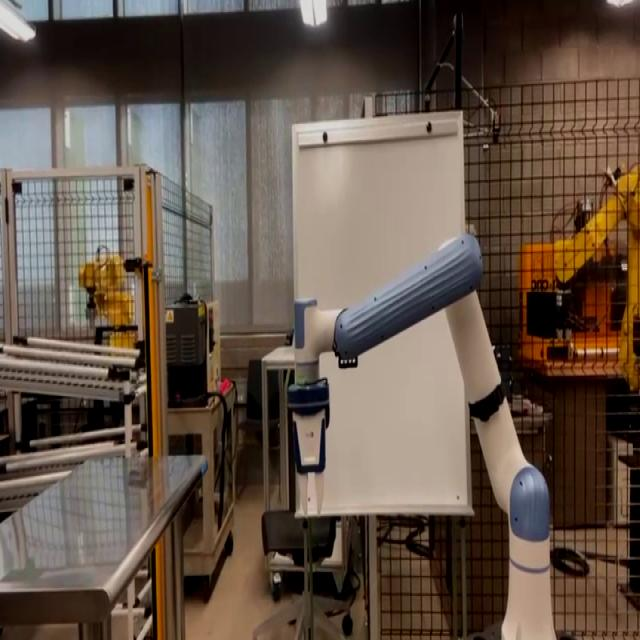robot: (279, 229, 569, 639)
